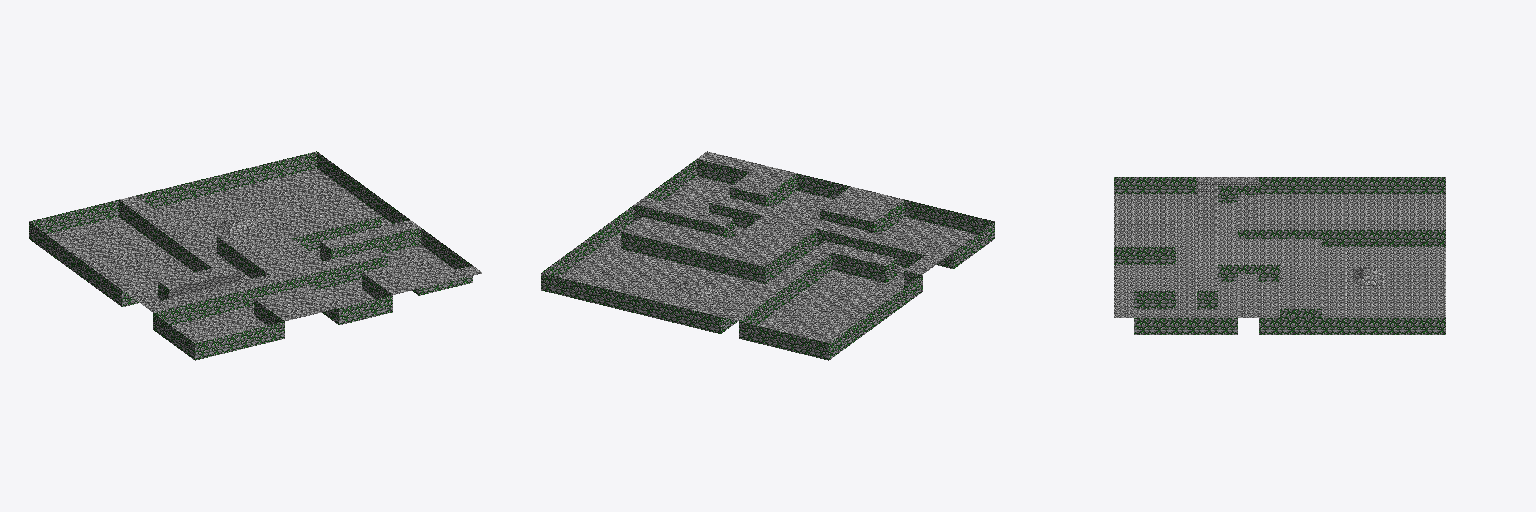
The picture shows the model from 3 angles: view 1: azimuth 30°, elevation 25°; view 2: azimuth 150°, elevation 25°; view 3: azimuth 270°, elevation 25°; orthographic projection.
Visible parts, largest first — view 1: Plane; view 2: Plane; view 3: Plane.
Boxes of the visible parts, box(x1,y1,x2,y2) form: Plane: box(29, 151, 481, 360); Plane: box(541, 151, 994, 360); Plane: box(1114, 177, 1445, 334).
Bounding box in the file's own units: 70 × 4 × 70.
Materials: 2 (2 with a texture image).